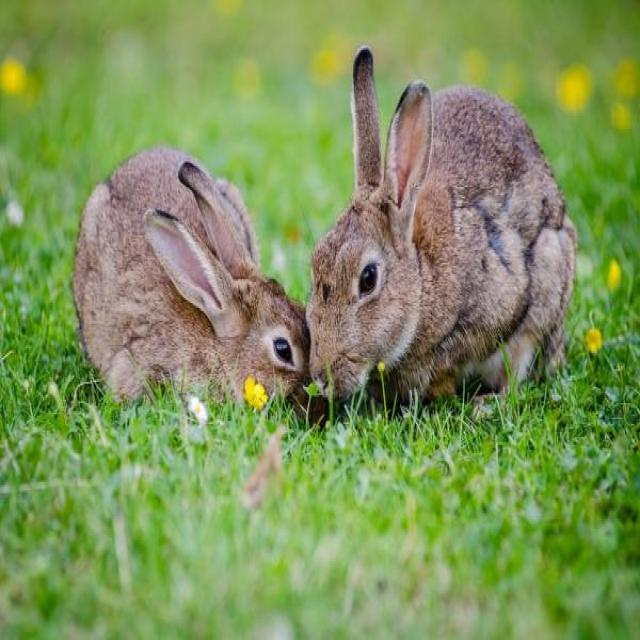Herbivorous: (289, 48, 578, 422), (70, 147, 314, 408)
